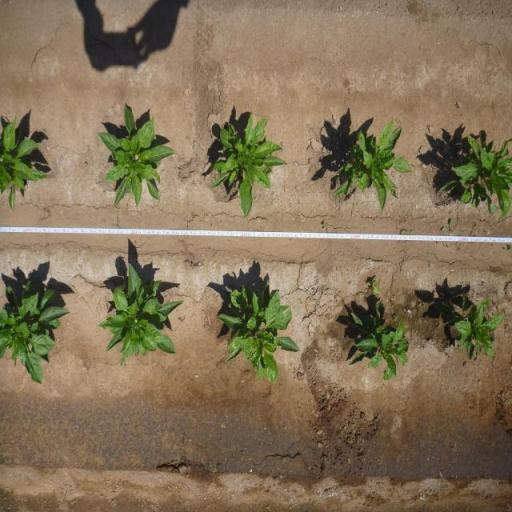plant: (213, 273, 301, 387), (96, 260, 188, 368), (94, 97, 176, 210), (206, 108, 288, 218), (0, 270, 72, 385), (331, 114, 413, 212), (435, 126, 512, 224), (343, 297, 412, 381), (0, 113, 51, 215), (436, 289, 508, 360)
weed: (365, 274, 383, 296), (441, 218, 455, 232), (504, 242, 512, 252), (322, 218, 328, 230), (84, 161, 88, 168), (191, 262, 195, 268)
